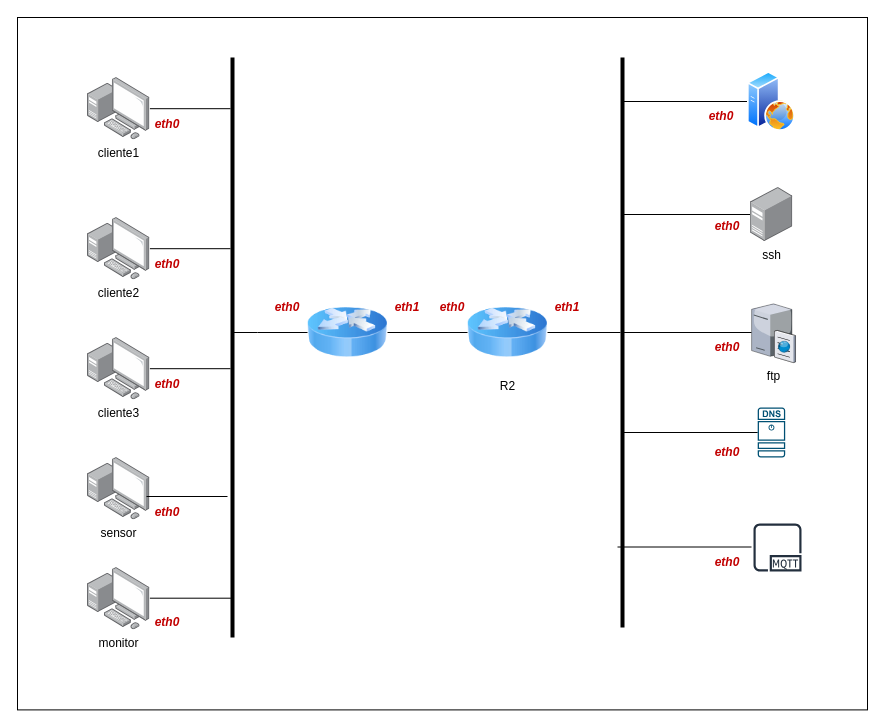
Image size: 885x728. Some labels were removed from this diagram. Each missing label, with the box of its shape:
bind: (757, 407, 785, 457)
MQTT protocol: (746, 516, 808, 578)
R1: (307, 292, 387, 372)
web: (747, 71, 795, 131)
